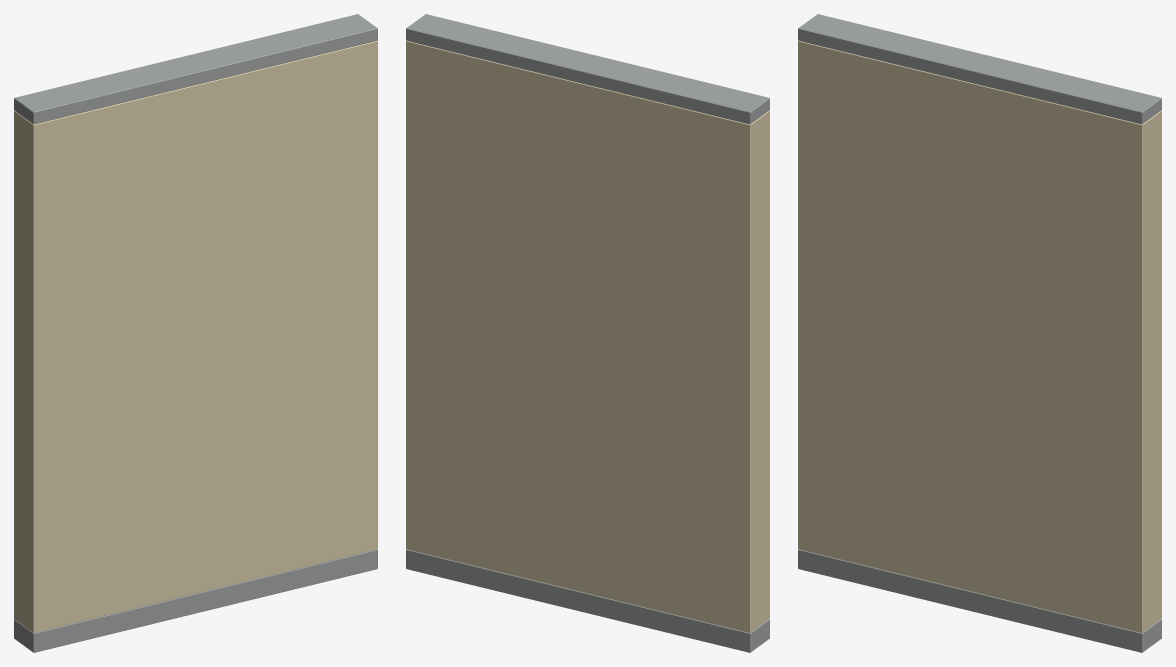
File: b21_wall_solid_2m.glb
3 renders of one model, left to right at view 1: azimuth 30°, elevation 25°; view 2: azimuth 150°, elevation 25°; view 3: azimuth 330°, elevation 25°, orthographic.
Parts seen in each view (by area): view 1: b21_wall_solid_2m; view 2: b21_wall_solid_2m; view 3: b21_wall_solid_2m.
Boxes of the visible parts, x1,y1,x2,y2 form: b21_wall_solid_2m: (14, 14, 377, 652); b21_wall_solid_2m: (406, 14, 769, 652); b21_wall_solid_2m: (798, 14, 1161, 652).
Size of the model in its own units: 2 by 3 by 0.2.
